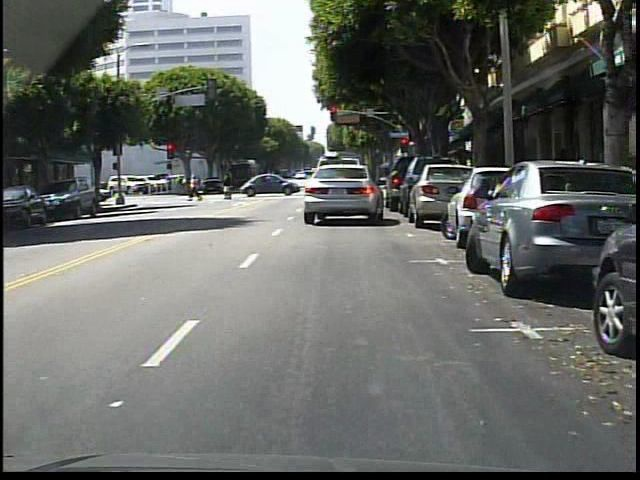person: (223, 172, 237, 201), (190, 174, 203, 200), (269, 172, 276, 191)
